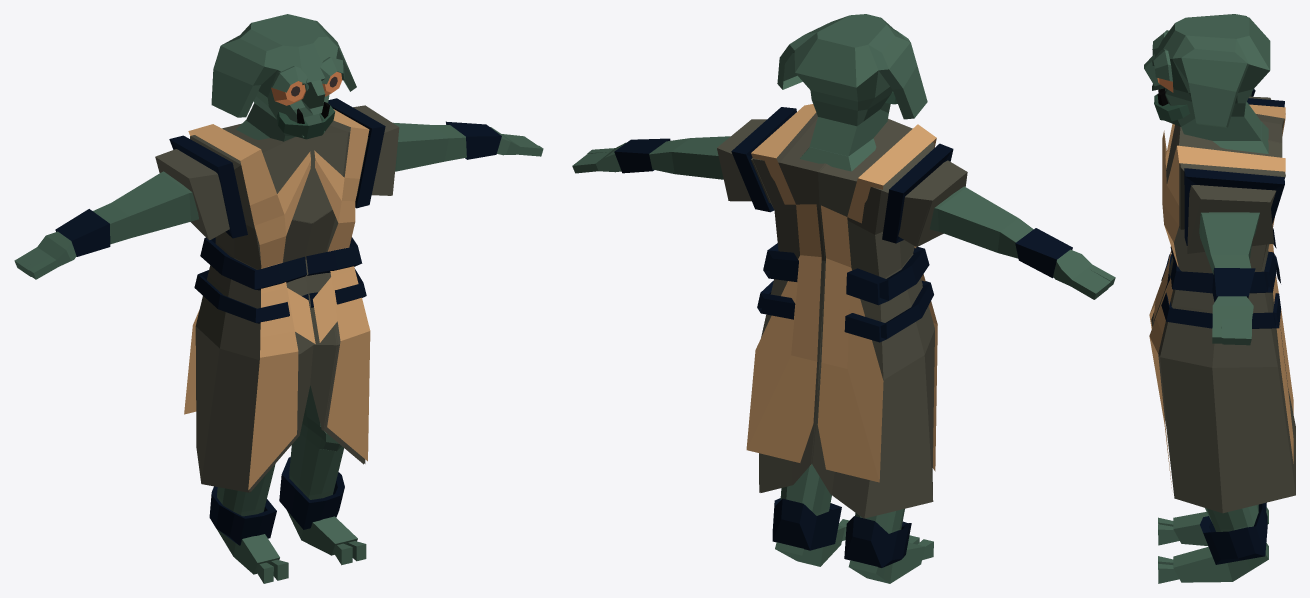
File: MUSTY_CHARACTER.fbx
3 renders of one model, left to right at view 1: azimuth 30°, elevation 25°; view 2: azimuth 150°, elevation 25°; view 3: azimuth 270°, elevation 25°, orthographic. The views are drawn at different scales.
Parts seen in each view (by area): view 1: Cube.027; view 2: Cube.027; view 3: Cube.027.
Boxes of the visible parts, x1=… form: Cube.027: x1=14, y1=14, x2=543, y2=583; Cube.027: x1=572, y1=14, x2=1115, y2=583; Cube.027: x1=1144, y1=14, x2=1295, y2=583.
Size of the model in its own units: 758 by 740 by 192.
